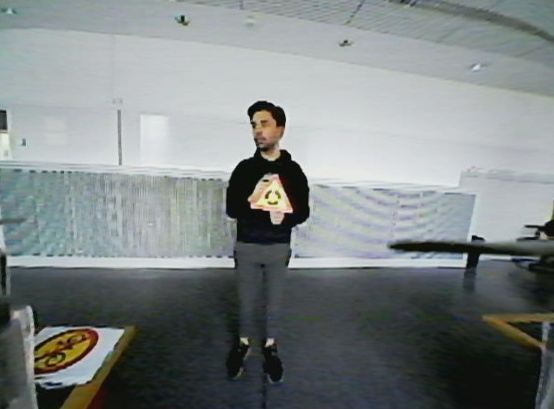roundabout_warning: (241, 170, 297, 217)
